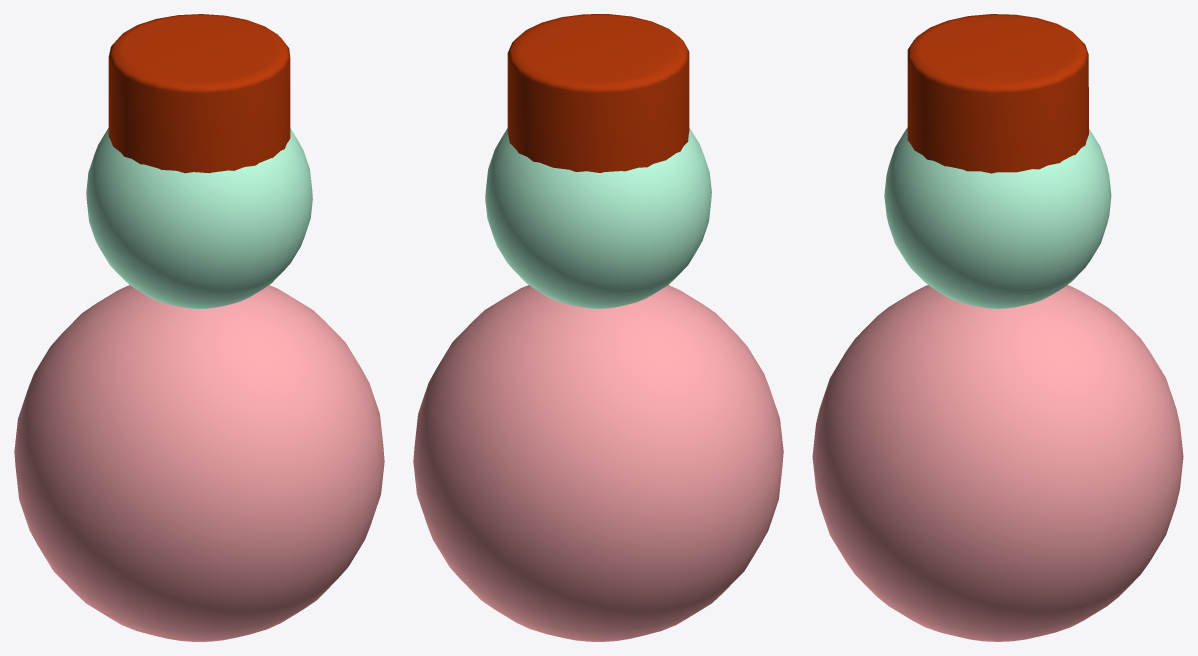
The model's file is Gosn12.fbx.
The picture shows the model from 3 angles, left to right: view 1: azimuth 30°, elevation 25°; view 2: azimuth 150°, elevation 25°; view 3: azimuth 270°, elevation 25°; orthographic projection.
Visible parts, largest first — view 1: cika_5_1, cika_5_1.001, cika_5_1.002; view 2: cika_5_1, cika_5_1.001, cika_5_1.002; view 3: cika_5_1, cika_5_1.001, cika_5_1.002.
Part boxes in pixels (x1,y1,x2,y2): cika_5_1: (14, 285, 384, 641); cika_5_1.001: (86, 128, 312, 308); cika_5_1.002: (108, 14, 290, 173); cika_5_1: (413, 285, 783, 641); cika_5_1.001: (485, 128, 711, 308); cika_5_1.002: (507, 14, 689, 172); cika_5_1: (812, 285, 1183, 641); cika_5_1.001: (884, 127, 1111, 308); cika_5_1.002: (907, 14, 1088, 173).
Size of the model in its own units: 5301 by 9078 by 5301.
